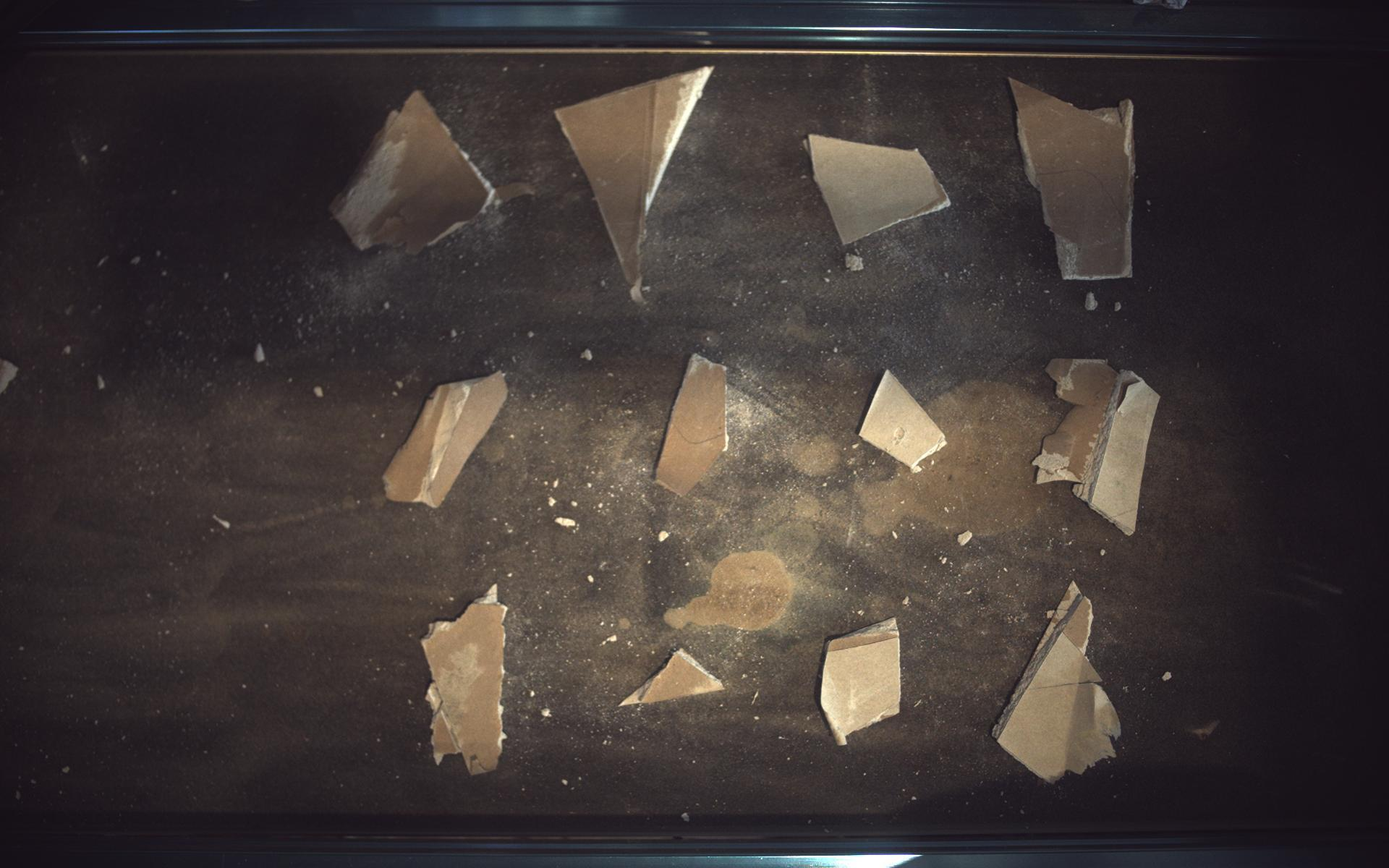gypsum_board: (556, 66, 714, 302), (329, 90, 508, 253), (995, 583, 1123, 784), (1013, 77, 1137, 279), (1035, 359, 1162, 535), (383, 372, 508, 508), (422, 585, 508, 776), (808, 133, 952, 244), (822, 618, 903, 746), (657, 354, 729, 496), (862, 370, 948, 472), (621, 650, 725, 707)
